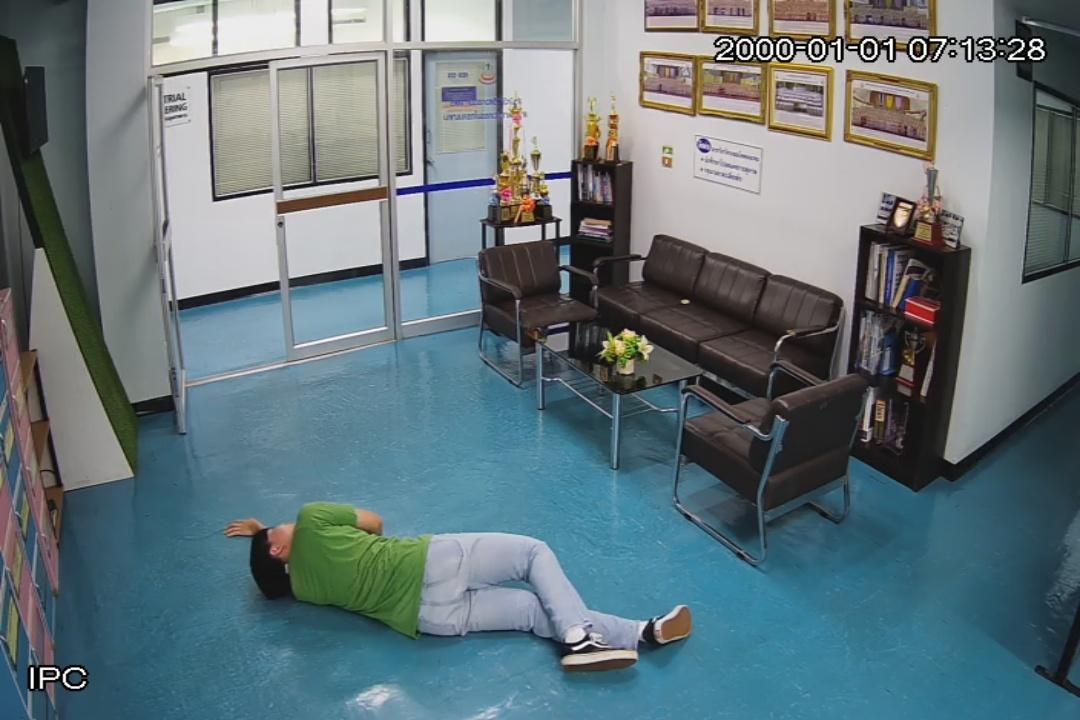fall: (228, 498, 696, 680)
